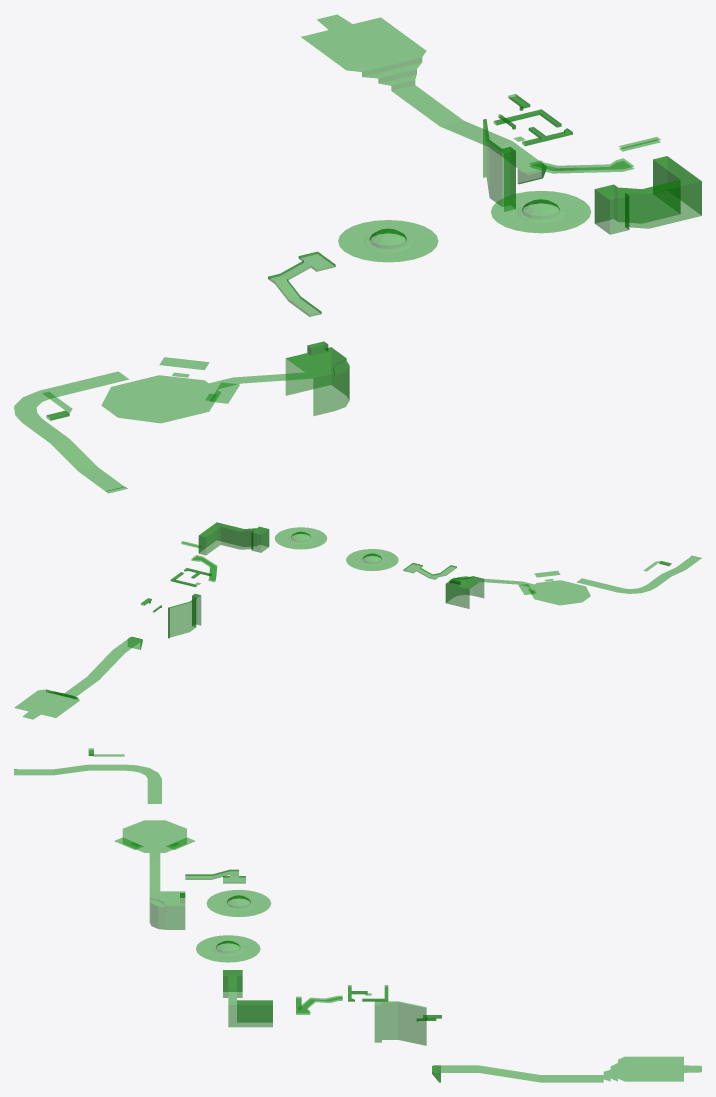
Rendered from ground01.obj.
The picture shows the model from 3 angles, top to bottom: view 1: azimuth 30°, elevation 25°; view 2: azimuth 150°, elevation 25°; view 3: azimuth 270°, elevation 25°; orthographic projection. The views are drawn at different scales.
Bounding box in the file's own units: 330 × 58 × 385.
